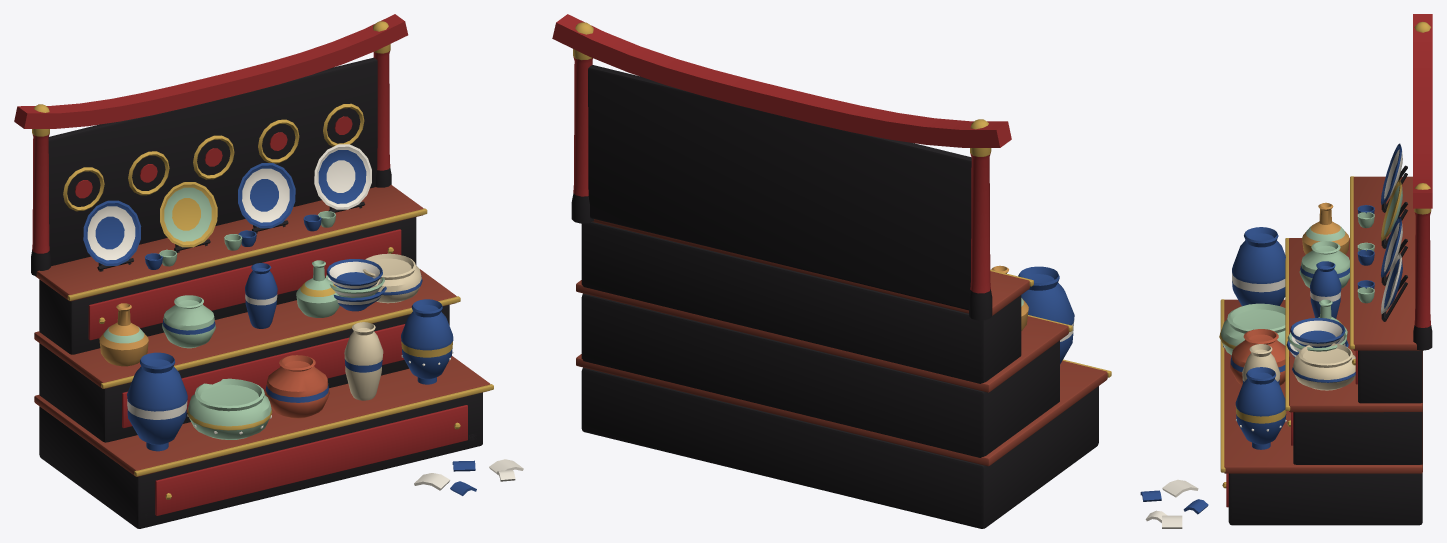
The model's file is deco_pottery_display.fbx.
3 views of the same model, side by side, from view 1: azimuth 30°, elevation 25°; view 2: azimuth 150°, elevation 25°; view 3: azimuth 270°, elevation 25° (orthographic). The views are drawn at different scales.
Visible parts, largest first — view 1: PotteryDisplay_Stand, PotteryDisplay_Screen, PotteryDisplay_PotsLow, PotteryDisplay_Plates, PotteryDisplay_PotsMid, PotteryDisplay_Shards; view 2: PotteryDisplay_Stand, PotteryDisplay_Screen, PotteryDisplay_PotsLow; view 3: PotteryDisplay_Stand, PotteryDisplay_PotsLow, PotteryDisplay_PotsMid, PotteryDisplay_Screen, PotteryDisplay_Plates, PotteryDisplay_Shards.
Part boxes in pixels (bbox=[...]): PotteryDisplay_Stand: bbox=[34, 185, 493, 528]; PotteryDisplay_Screen: bbox=[14, 14, 408, 276]; PotteryDisplay_PotsLow: bbox=[127, 299, 453, 451]; PotteryDisplay_Plates: bbox=[83, 144, 371, 271]; PotteryDisplay_PotsMid: bbox=[99, 253, 422, 366]; PotteryDisplay_Shards: bbox=[414, 459, 523, 495]; PotteryDisplay_Stand: bbox=[576, 219, 1111, 528]; PotteryDisplay_Screen: bbox=[552, 14, 1011, 320]; PotteryDisplay_PotsLow: bbox=[1018, 266, 1074, 364]; PotteryDisplay_Stand: bbox=[1220, 176, 1422, 525]; PotteryDisplay_PotsLow: bbox=[1219, 227, 1286, 449]; PotteryDisplay_PotsMid: bbox=[1286, 202, 1355, 390]; PotteryDisplay_Screen: bbox=[1413, 14, 1432, 350]; PotteryDisplay_Plates: bbox=[1357, 143, 1407, 321]; PotteryDisplay_Shards: bbox=[1140, 479, 1208, 528].
Bounding box in the file's own units: 266 × 233 × 181.
